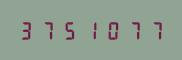five: (59, 20, 79, 40)
one: (80, 20, 100, 40)
seven: (38, 20, 58, 40), (122, 20, 142, 40), (143, 20, 163, 40)
three: (17, 20, 37, 40)
zero: (101, 20, 121, 40)
